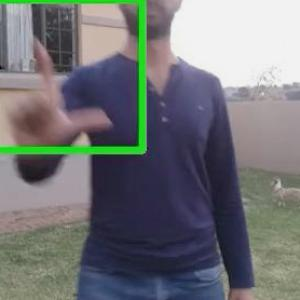land_hand: (0, 29, 117, 149)
